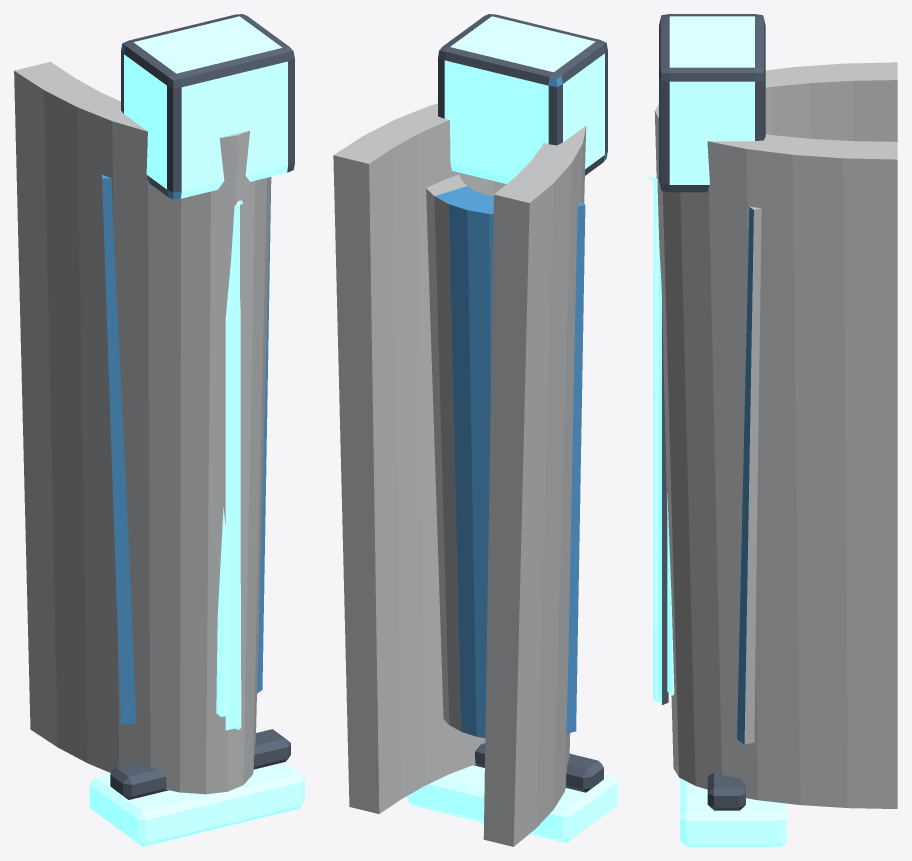
File: right_shin__sleek.glb
3 renders of one model, left to right at view 1: azimuth 30°, elevation 25°; view 2: azimuth 150°, elevation 25°; view 3: azimuth 270°, elevation 25°, orthographic. The views are drawn at different scales.
Parts seen in each view (by area): view 1: armor_right_shin__sleek_v001; view 2: armor_right_shin__sleek_v001; view 3: armor_right_shin__sleek_v001.
Boxes of the visible parts, <box> form: armor_right_shin__sleek_v001: <box>14,14,304,846</box>; armor_right_shin__sleek_v001: <box>333,14,617,846</box>; armor_right_shin__sleek_v001: <box>647,14,897,846</box>.
Bounding box in the file's own units: 0.1078 × 0.3967 × 0.1179.
